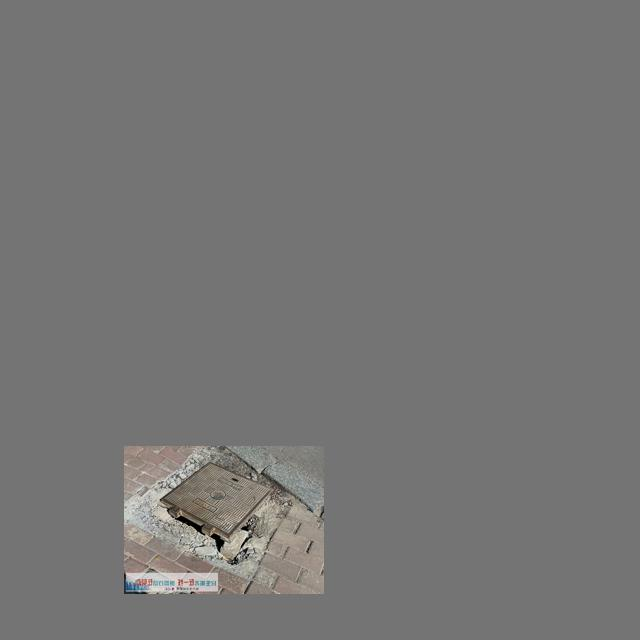circle: (135, 461, 293, 564)
